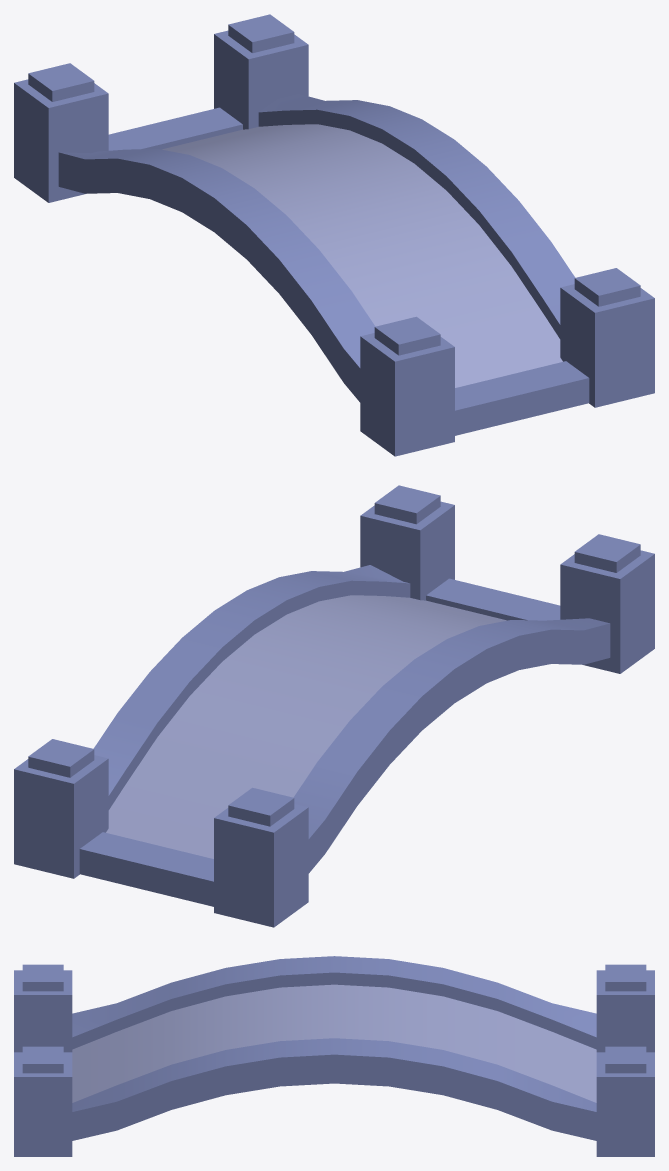
File: bridge_1d_1.fbx
The picture shows the model from 3 angles, top to bottom: view 1: azimuth 30°, elevation 25°; view 2: azimuth 150°, elevation 25°; view 3: azimuth 270°, elevation 25°; orthographic projection. The views are drawn at different scales.
Visible parts, largest first — view 1: bridge_1d_1; view 2: bridge_1d_1; view 3: bridge_1d_1.
Part boxes in pixels (bbox=[...]): bridge_1d_1: bbox=[14, 14, 654, 456]; bridge_1d_1: bbox=[14, 485, 654, 927]; bridge_1d_1: bbox=[14, 956, 654, 1156].
Bounding box in the file's own units: 10.4 × 4.46 × 26.4.
